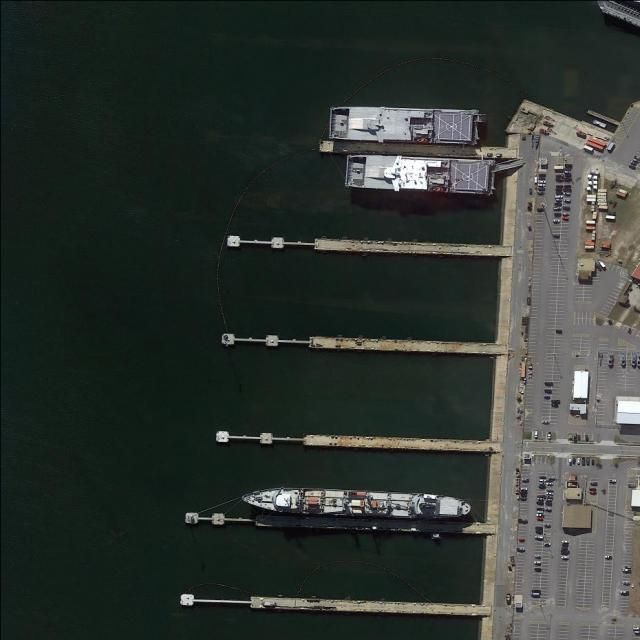Auxiliary Ships: (343, 151, 495, 197), (327, 103, 482, 146)
Cargo: (239, 484, 473, 522)
Dock: (184, 511, 484, 538), (222, 330, 498, 358), (215, 429, 492, 454), (224, 235, 502, 259), (180, 594, 481, 613)
